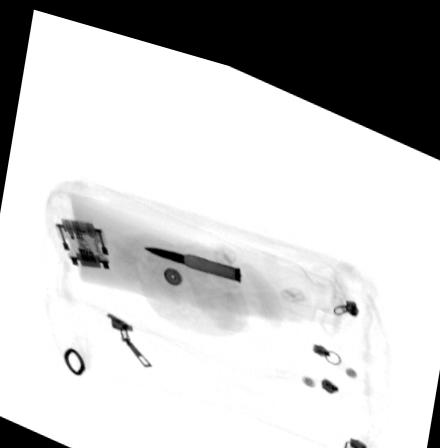Bullet: (140, 237, 240, 267)
